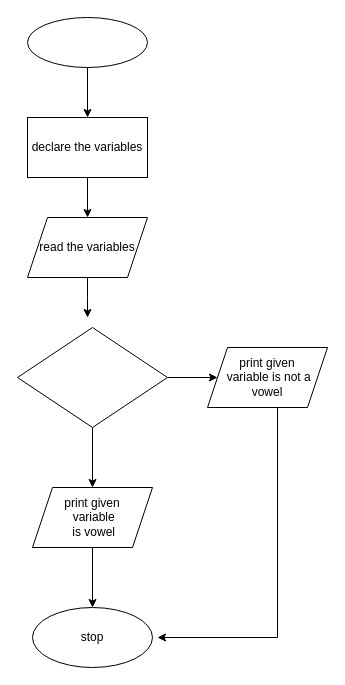
This 345x685 diagram has some shape labels left out. Each missing label, with the box of its shape:
if the variable is among these 'a','e','i,'o','u': (16, 326, 168, 428)
start: (26, 16, 148, 68)
